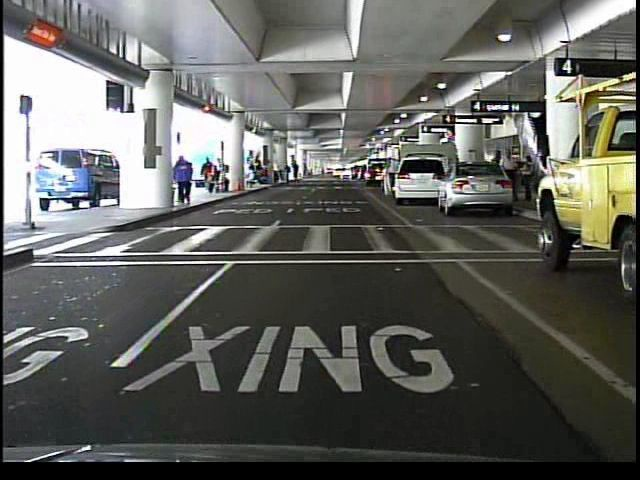person: (172, 152, 198, 207)
